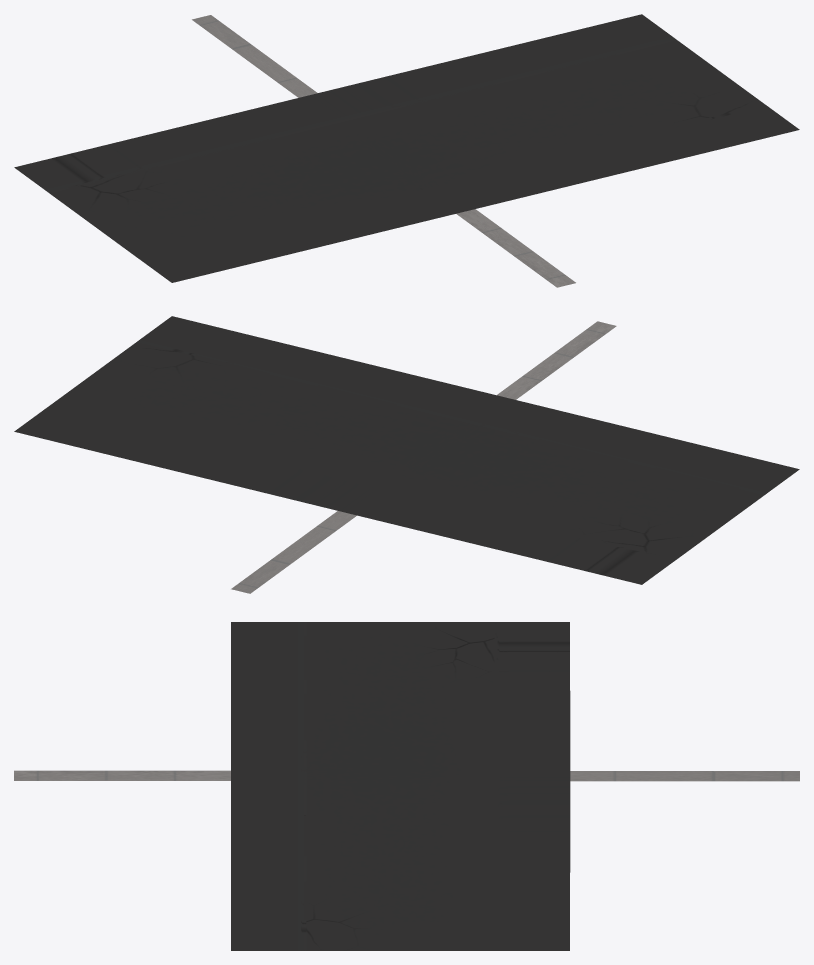
File: Road_L_Double_Walkway_Sewer_Flat.fbx
3 views of the same model, one above another, from view 1: azimuth 30°, elevation 25°; view 2: azimuth 150°, elevation 25°; view 3: azimuth 270°, elevation 25° (orthographic). The views are drawn at different scales.
Parts seen in each view (by area): view 1: Road_L_Double_Walkway; view 2: Road_L_Double_Walkway; view 3: Road_L_Double_Walkway.
Part boxes in pixels (x1,y1,x2,y2): Road_L_Double_Walkway: (14, 14, 799, 287); Road_L_Double_Walkway: (14, 316, 799, 593); Road_L_Double_Walkway: (14, 622, 799, 950).
Size of the model in its own units: 1300 by 1313 by 0.1107.
